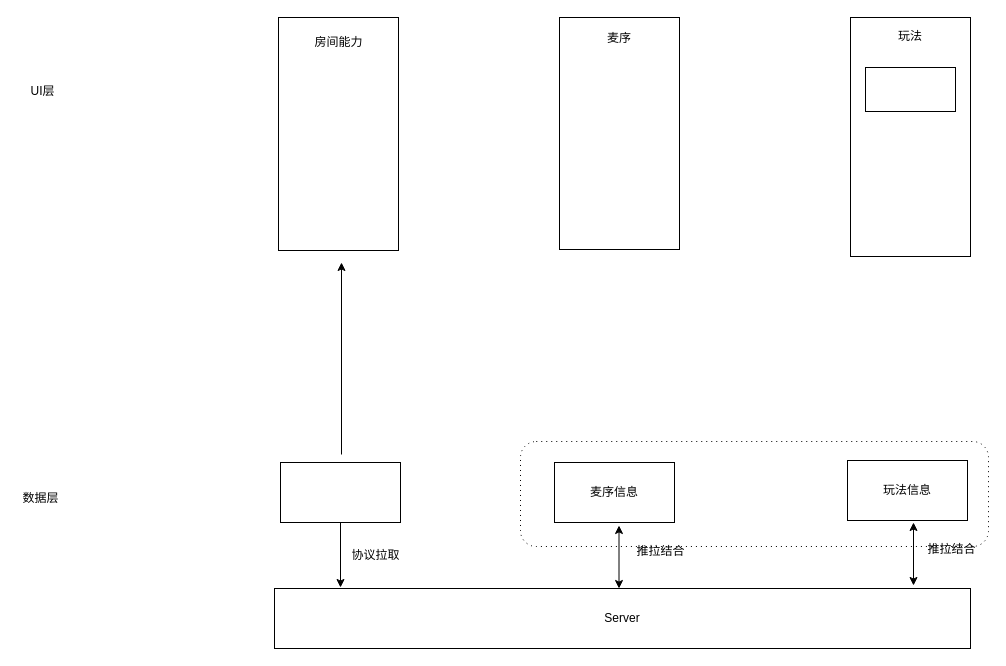
Image size: 1006x666. Some labels were removed from this diagram. The box of each missing label's shape, as (x1, y1, x2, y2) in pixels:
房间信息: (280, 462, 400, 522)
欢唱KTV: (864, 66, 956, 112)
